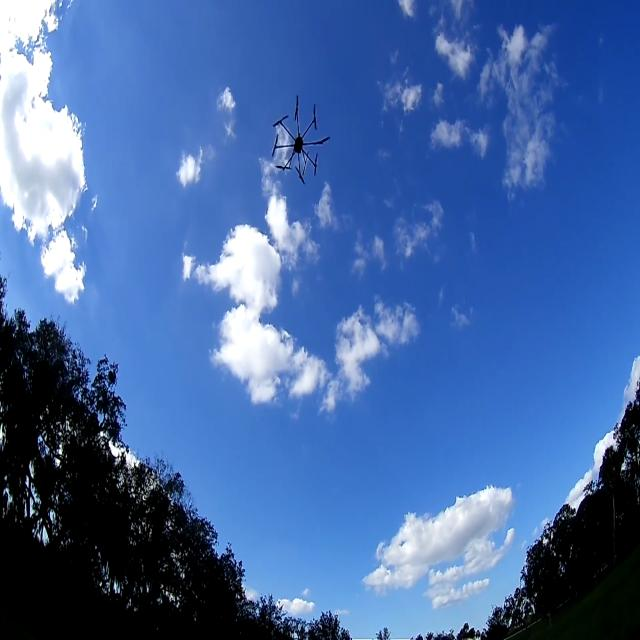drone: (246, 91, 340, 196)
